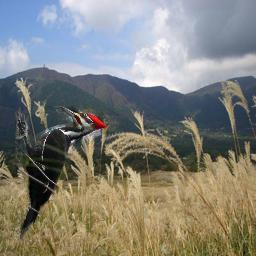Woodpecker: (15, 106, 108, 238)
